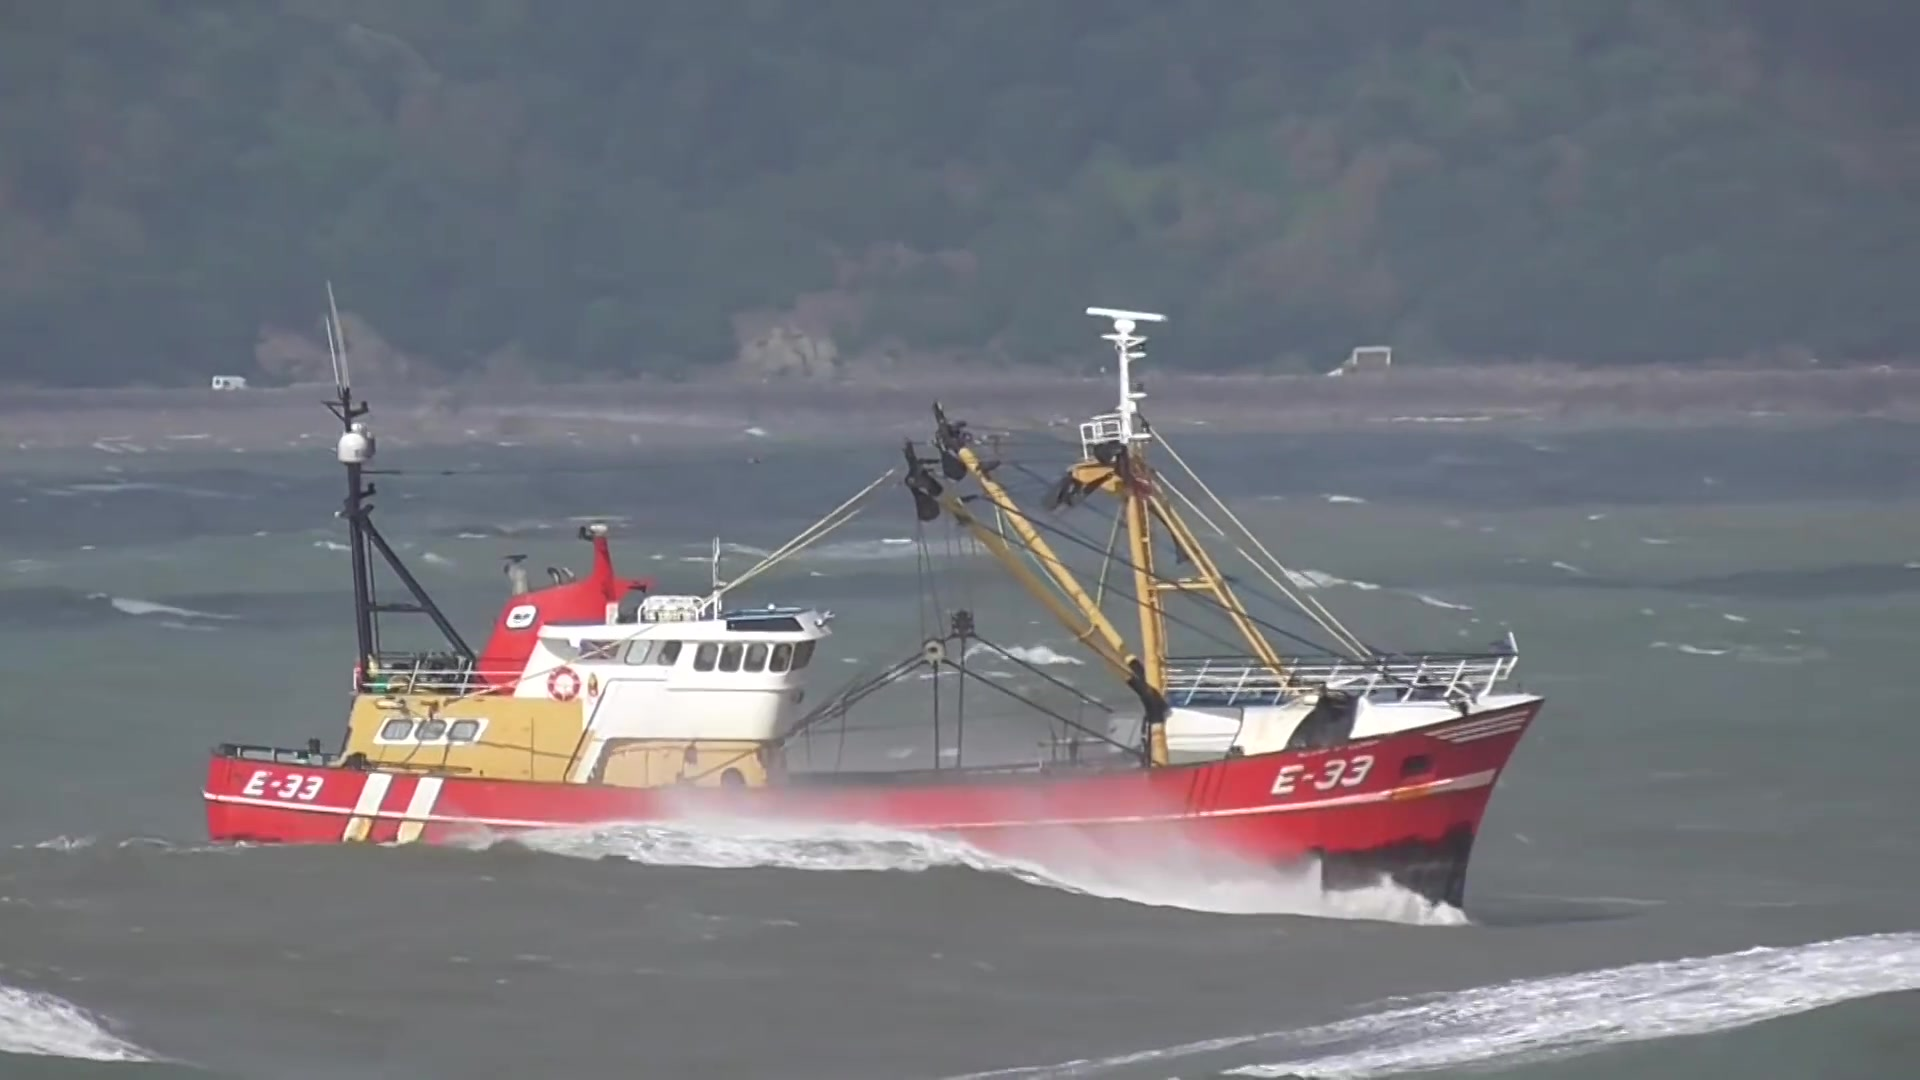CommonShip: (194, 373, 1515, 945)
